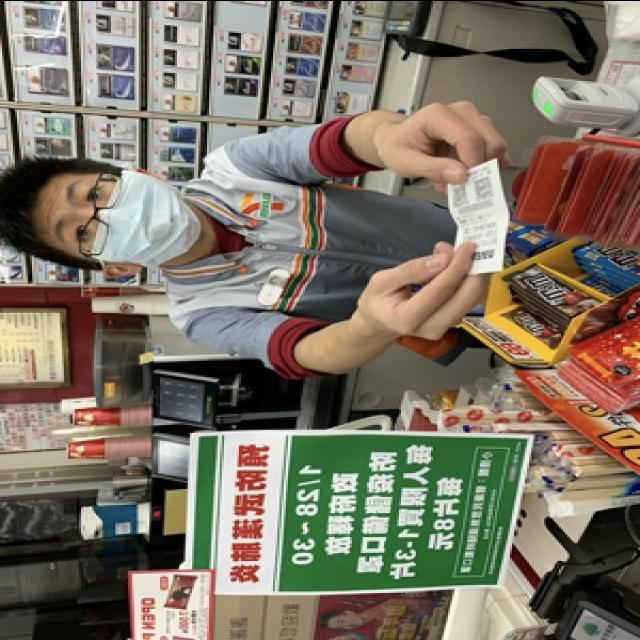with_mask: (47, 167, 203, 270)
